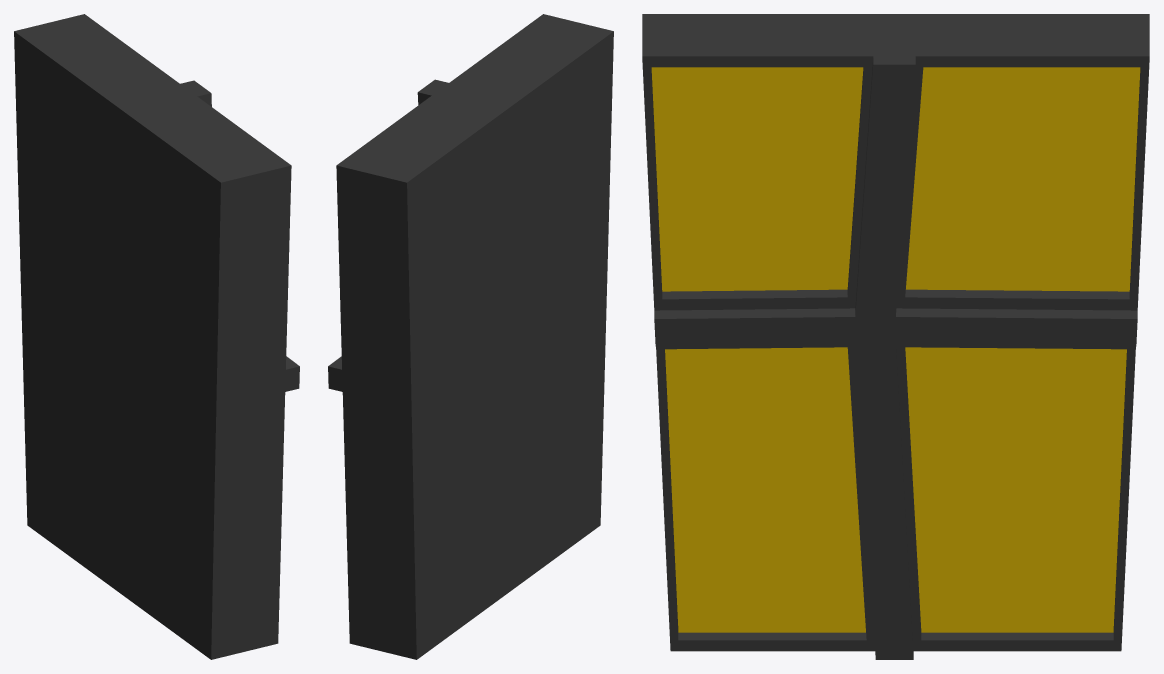
File: Window 1.fbx
3 views of the same model, side by side, from view 1: azimuth 30°, elevation 25°; view 2: azimuth 150°, elevation 25°; view 3: azimuth 270°, elevation 25° (orthographic). The views are drawn at different scales.
Visible parts, largest first — view 1: Cube.045; view 2: Cube.045; view 3: Cube.045.
Boxes of the visible parts, x1,y1,x2,y2 form: Cube.045: (14,14,299,659); Cube.045: (328,14,613,659); Cube.045: (642,14,1149,659).
Bounding box in the file's own units: 36.37 × 199 × 154.
